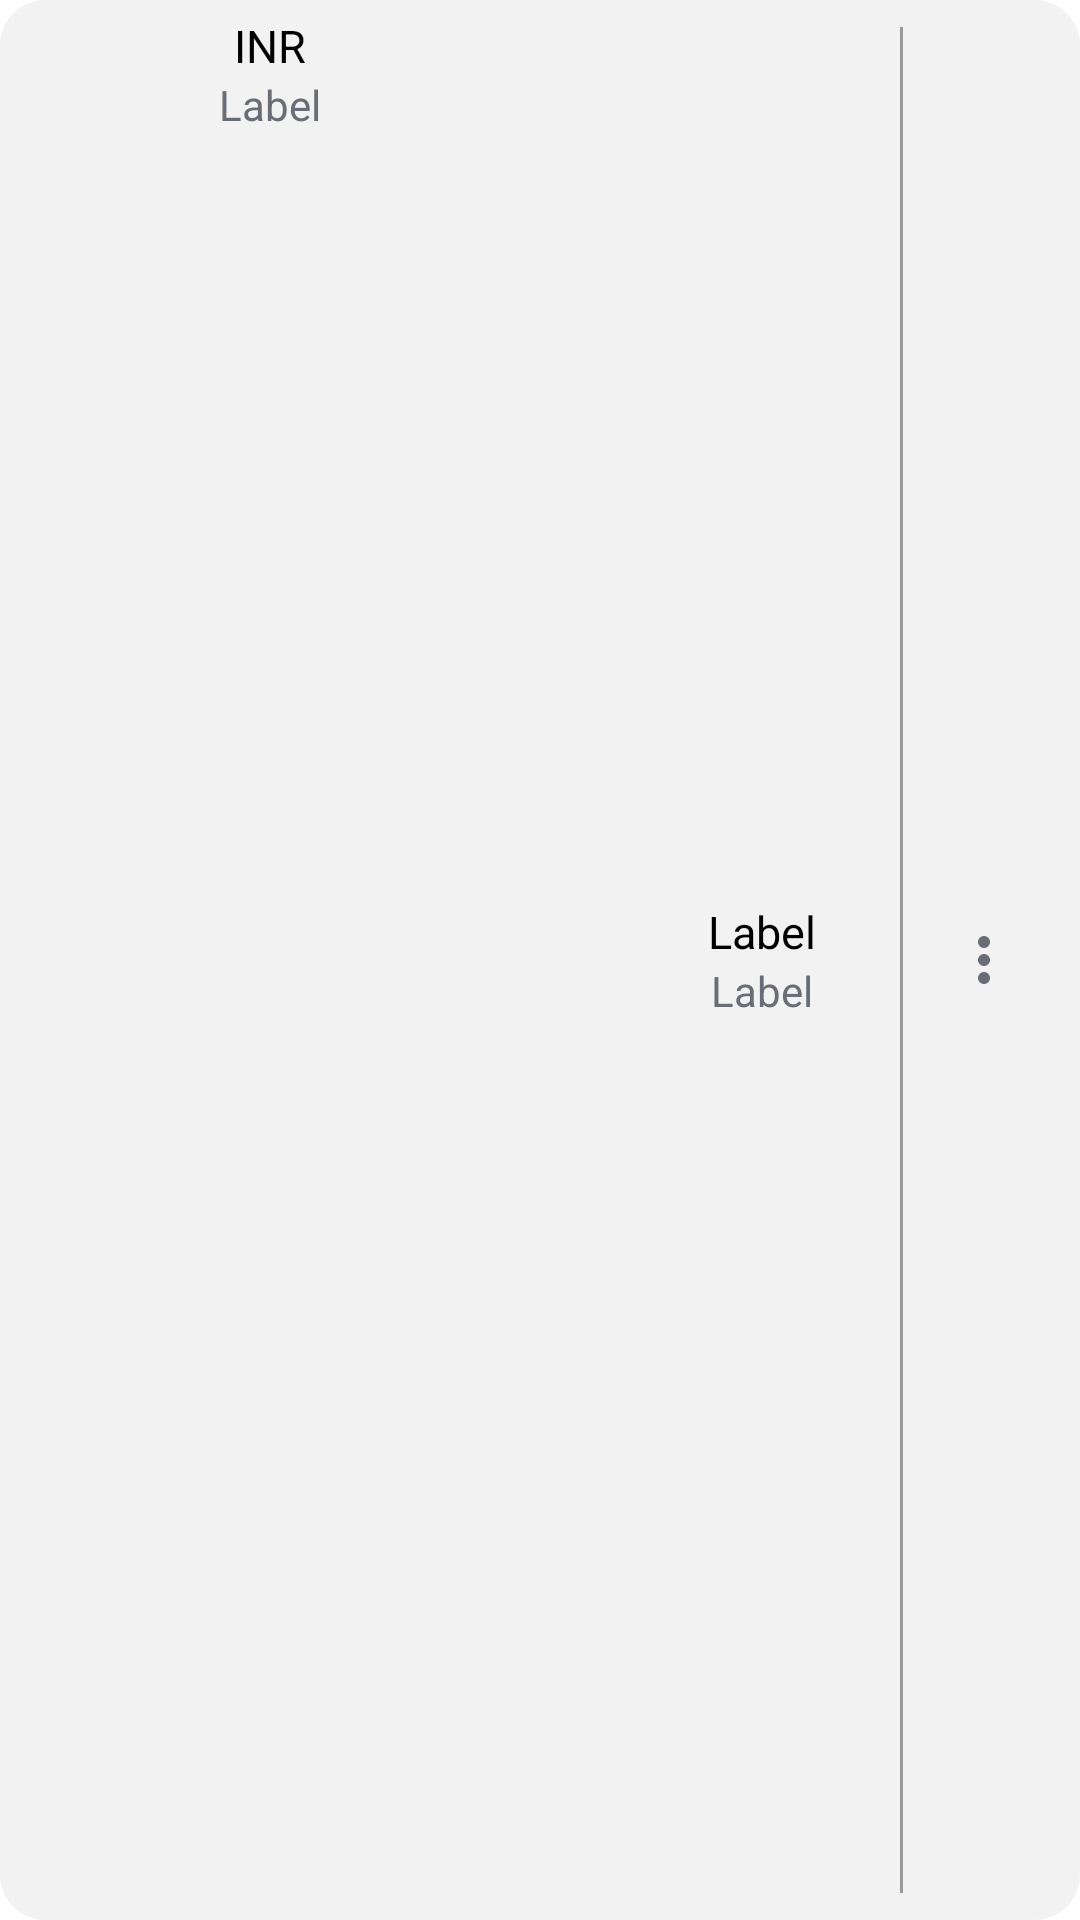

Icon bounding boxes for this 1080 x 1920 phone screenshot, format detection(x1, y1, x2, y2):
morevert: detection(978, 936, 990, 984)
